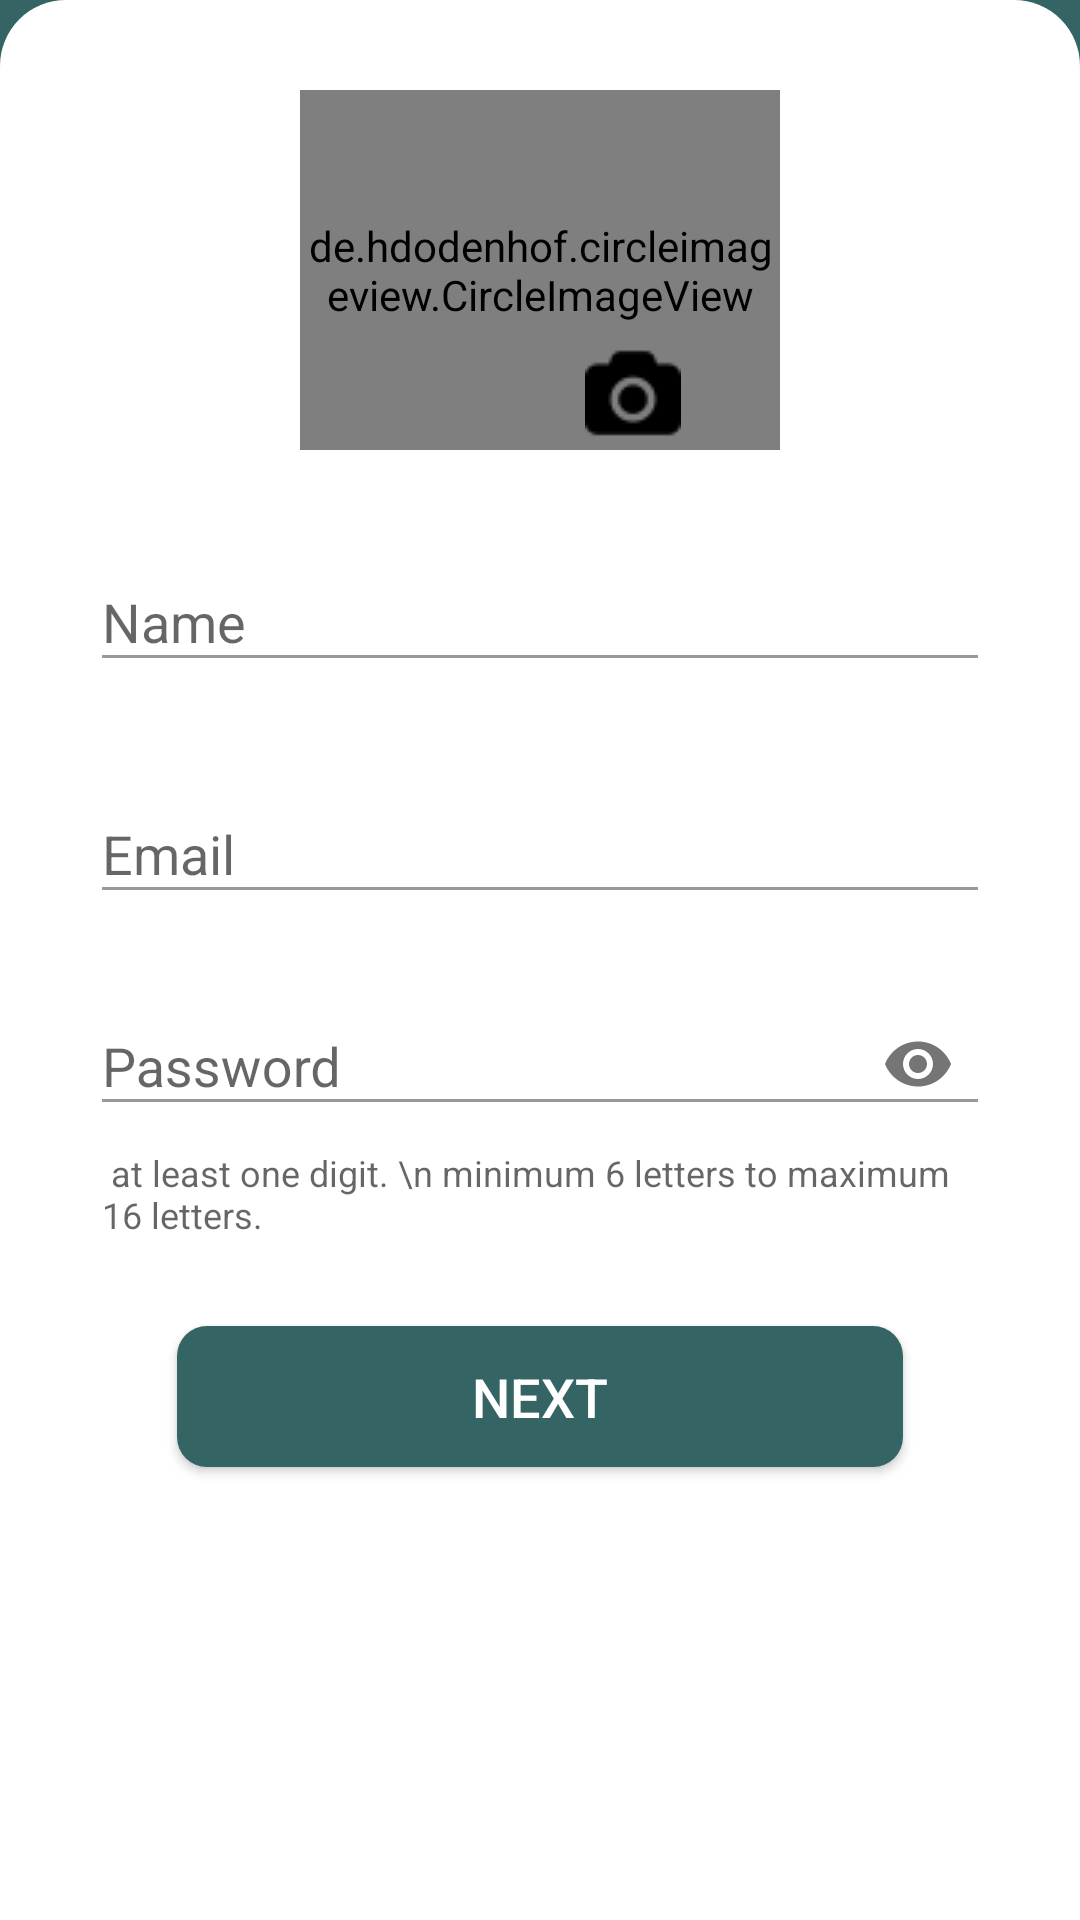

Icon bounding boxes for this 1080px×1920px phone screenshot, format (x1, y1, x2, y2):
photograph: (585, 350, 681, 436)
